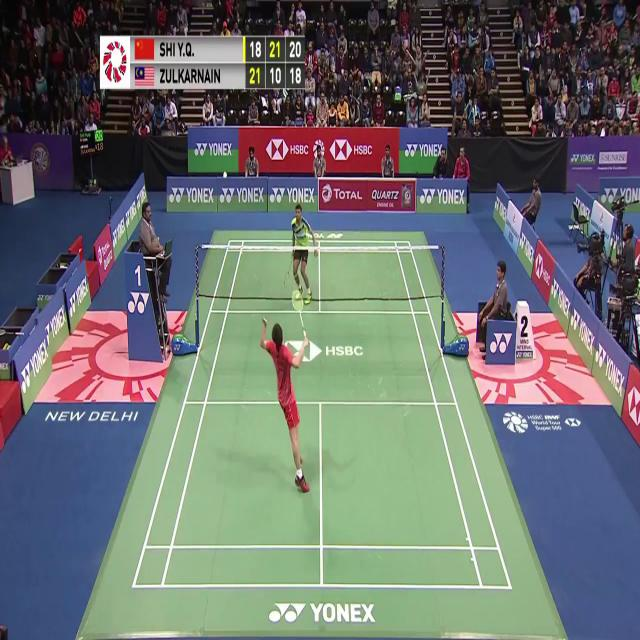Shuttlecock: (221, 169, 228, 181)
